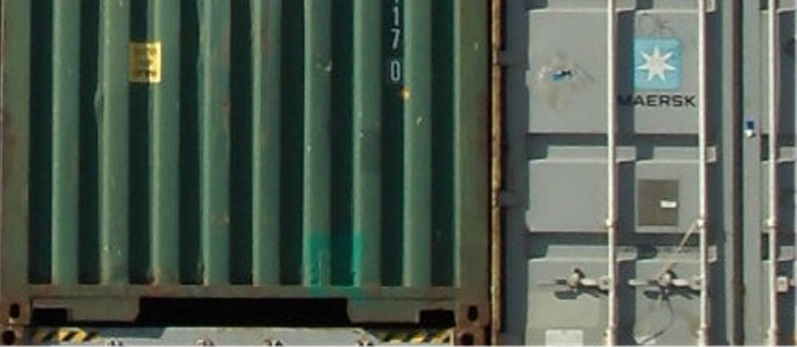container_door: (512, 8, 797, 340)
container_no_door: (3, 4, 490, 325)
